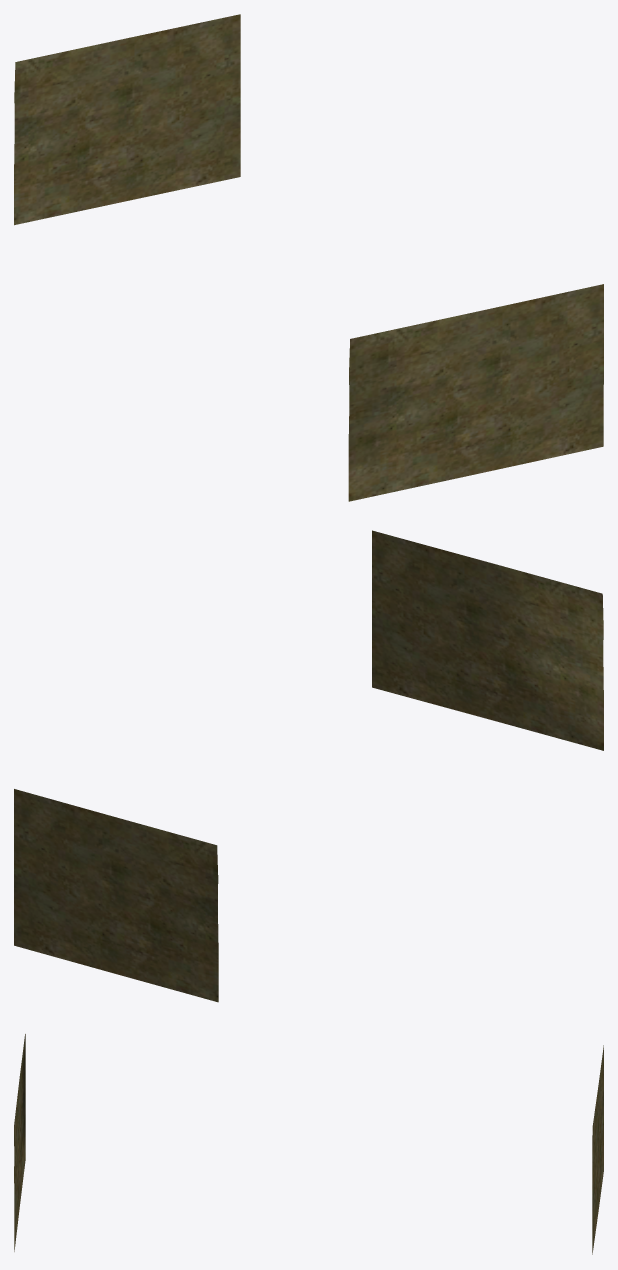
The model's file is CH09_SMAUG_PLAYSURFACE_LAIR128.fbx.
The picture shows the model from 3 angles, top to bottom: view 1: azimuth 30°, elevation 25°; view 2: azimuth 150°, elevation 25°; view 3: azimuth 270°, elevation 25°; orthographic projection. The views are drawn at different scales.
Parts seen in each view (by area): view 1: CH09_SMAUG_PLAYSURFACE_LAIR128; view 2: CH09_SMAUG_PLAYSURFACE_LAIR128; view 3: CH09_SMAUG_PLAYSURFACE_LAIR128.
Boxes of the visible parts, <box> form: CH09_SMAUG_PLAYSURFACE_LAIR128: <box>14,14,603,501</box>; CH09_SMAUG_PLAYSURFACE_LAIR128: <box>14,530,603,1002</box>; CH09_SMAUG_PLAYSURFACE_LAIR128: <box>14,1034,603,1254</box>.
Bounding box in the file's own units: 52374 × 32333 × 134830.
1 material, 1 textured.
